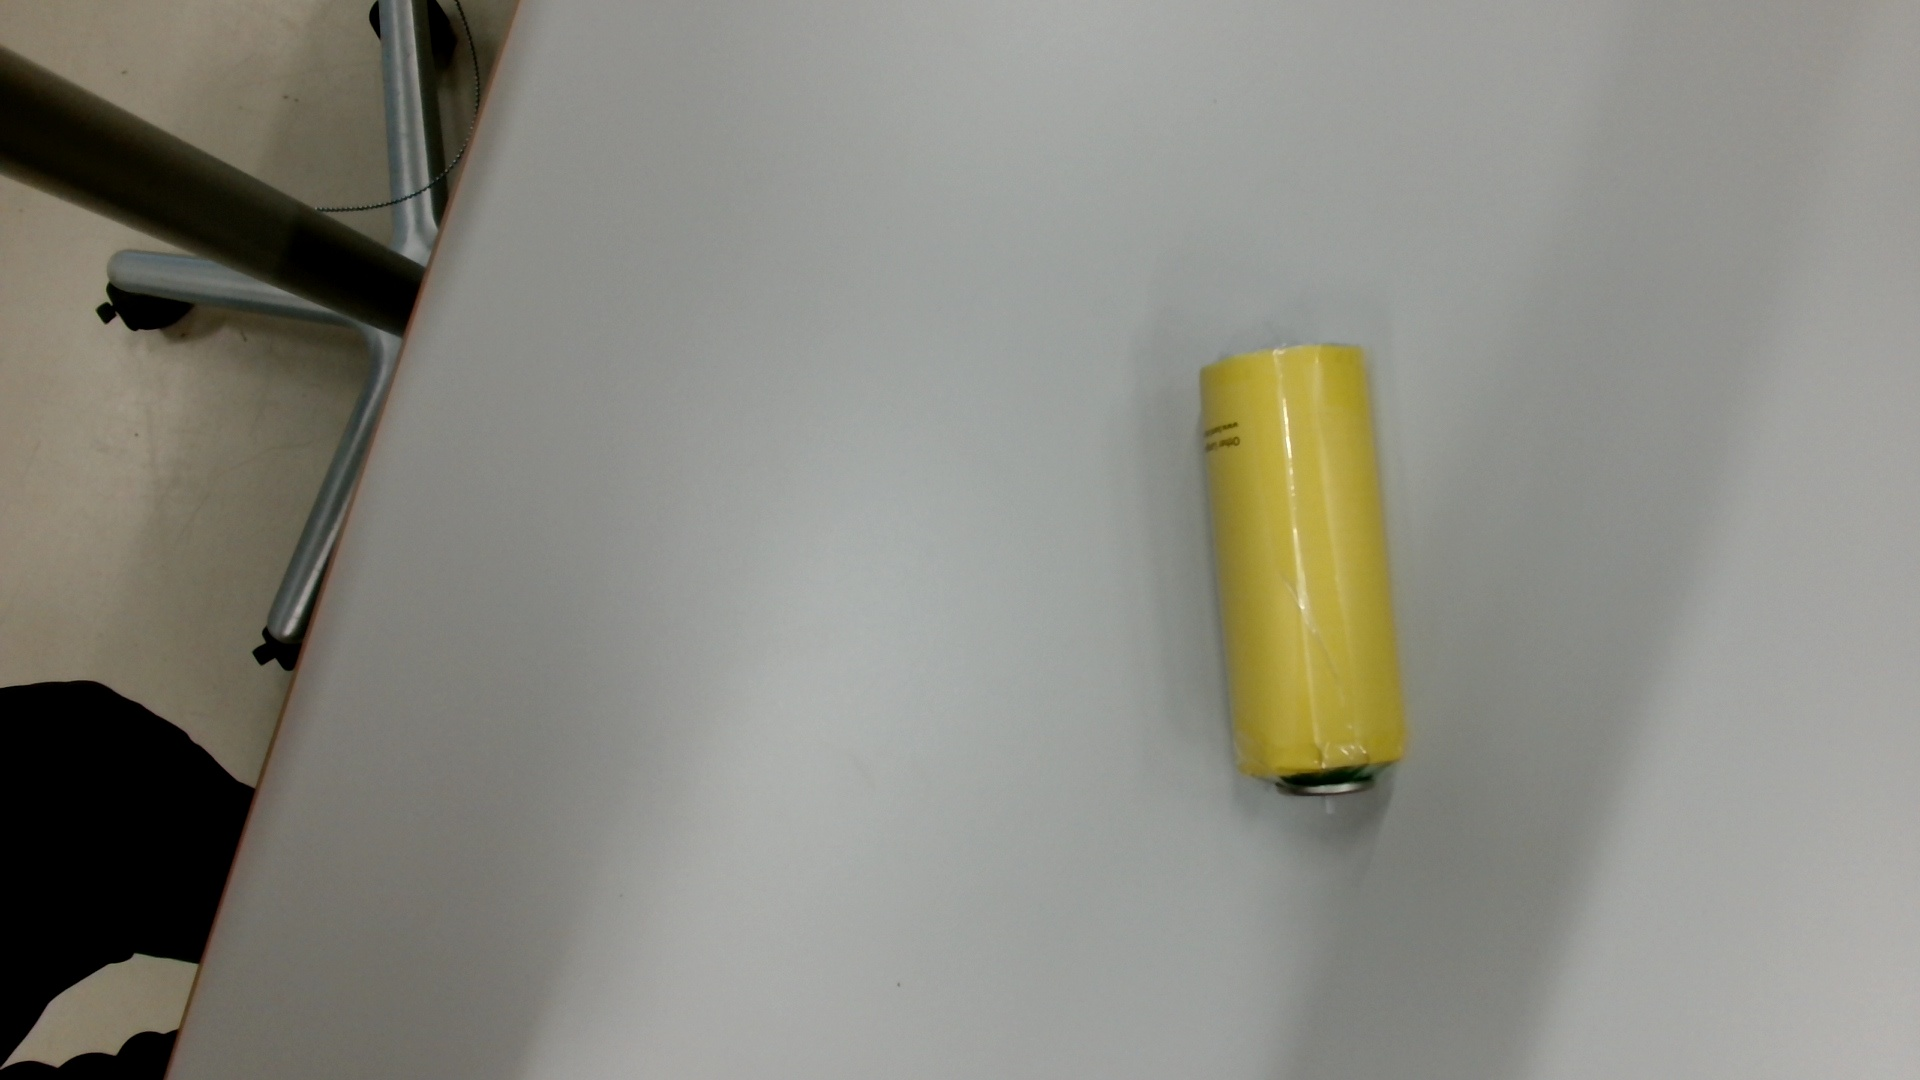Cylinder: (1188, 336, 1427, 826)
